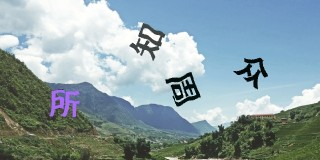众: (233, 56, 271, 90)
周: (165, 70, 201, 108)
所: (49, 87, 81, 118)
知: (130, 21, 166, 61)
